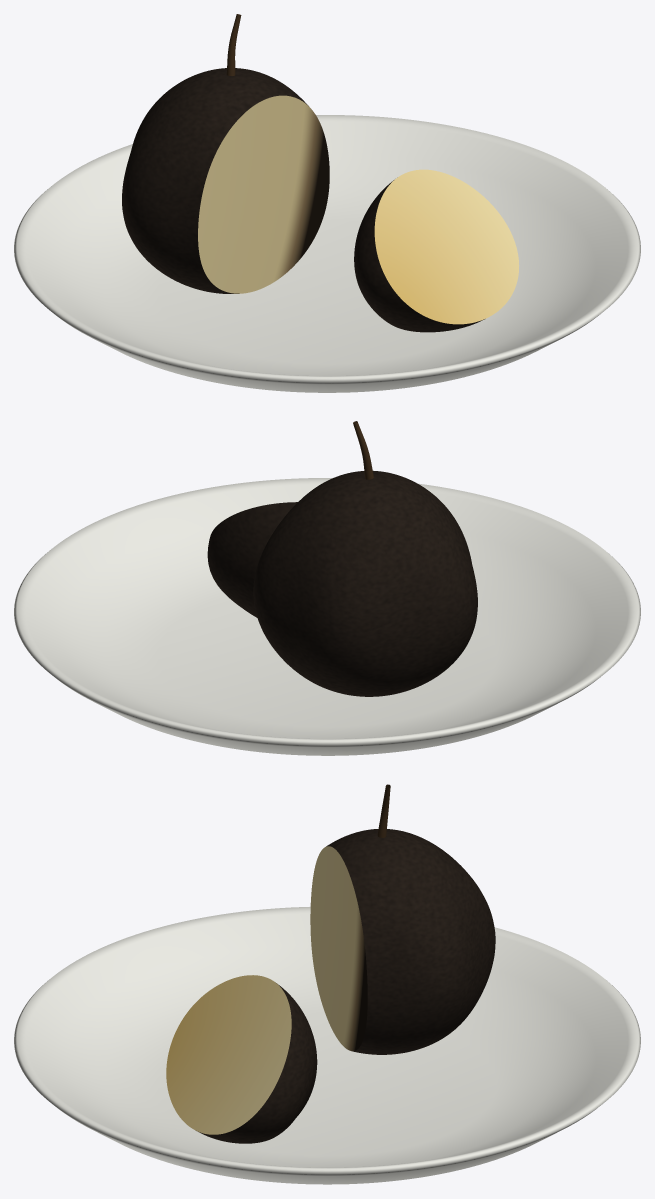
The model's file is shenyang-dish-original.glb.
3 renders of one model, top to bottom at view 1: azimuth 30°, elevation 25°; view 2: azimuth 150°, elevation 25°; view 3: azimuth 270°, elevation 25°, orthographic.
Visible parts, largest first — view 1: shenyang-dish; view 2: shenyang-dish; view 3: shenyang-dish.
Part boxes in pixels (box(x1,y1,x2,y2)): shenyang-dish: box(14, 14, 640, 392); shenyang-dish: box(14, 421, 640, 755); shenyang-dish: box(14, 784, 640, 1184).
Size of the model in its own units: 0.196 by 0.0994 by 0.196.
4 materials, 4 textured.
